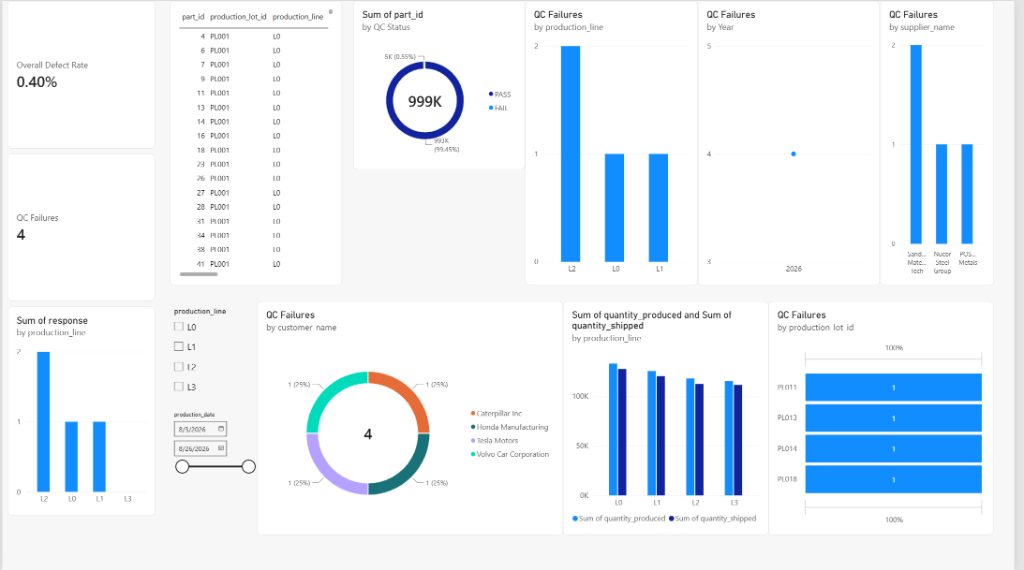

What the dashboard file says about the page in this screenshot:
{"tool":"powerbi","page":{"name":"Plant Quality Overview","canvas":[1920,1080],"ordinal":0},"visuals":[{"type":"cardVisual","fields":{"Data":["public traceability_view.Overall Defect Rate"]},"box":[10,0,280,280],"z":0},{"type":"cardVisual","fields":{"Data":["public traceability_view.QC Failures"]},"box":[10,290,280,280],"z":1000},{"type":"clusteredColumnChart","fields":{"Category":["public traceability_view.production_line"],"Y":["Sum(public traceability_view.response)"]},"box":[10,580,280,396.7],"z":2000},{"type":"tableEx","fields":{"Values":["public traceability_view.part_id","public traceability_view.production_lot_id","public traceability_view.production_line","public traceability_view.raw_material_lot_id","public traceability_view.supplier_name","public traceability_view.material_type","public traceability_view.response","public traceability_view.shipment_id","public traceability_view.customer_name","public traceability_view.quantity_shipped"]},"box":[318.3,0,326.7,540],"z":3000},{"type":"clusteredColumnChart","fields":{"Category":["public traceability_view.production_line"],"Y":["public traceability_view.QC Failures"]},"box":[992,0,327,540],"z":5000},{"type":"lineChart","fields":{"Category":["public traceability_view.inspection_date.Variation.Date Hierarchy.Year","public traceability_view.inspection_date.Variation.Date Hierarchy.Quarter","public traceability_view.inspection_date.Variation.Date Hierarchy.Month","public traceability_view.inspection_date.Variation.Date Hierarchy.Day"],"Y":["public traceability_view.QC Failures"]},"box":[1320,0,345,540],"z":6000},{"type":"slicer","fields":{"Values":["public traceability_view.production_line"]},"box":[318.3,580,280,210],"z":7000},{"type":"donutChart","fields":{"Category":["public traceability_view.customer_name"],"Y":["public traceability_view.QC Failures"]},"box":[483.3,570,580,443.3],"z":8000},{"type":"clusteredColumnChart","fields":{"Category":["public traceability_view.production_line"],"Y":["Sum(public traceability_view.quantity_produced)","Sum(public traceability_view.quantity_shipped)"]},"box":[1063.3,570,390,443.3],"z":9000},{"type":"funnel","fields":{"Category":["public traceability_view.production_lot_id"],"Y":["public traceability_view.QC Failures"]},"box":[1453.3,570,426.7,443.3],"z":10000},{"type":"slicer","fields":{"Values":["public traceability_view.production_date"]},"box":[303.3,721.1,165.6,122.2],"z":11000},{"type":"clusteredColumnChart","fields":{"Category":["public traceability_view.supplier_name"],"Y":["public traceability_view.QC Failures"]},"box":[1665,0,215,540],"z":11001},{"type":"donutChart","fields":{"Category":["public traceability_view.QC Status"],"Y":["Sum(public traceability_view.part_id)"]},"box":[666,0,326,320],"z":11002}]}

Visuals, with their boxes in screenshot pixels (x1, y1, x2, y2), scaled from the page's 1920x1080 canvas onto the 1024x570 screenshot:
cardVisual - public traceability_view.Overall Defect Rate: x1=5, y1=0, x2=155, y2=148
cardVisual - public traceability_view.QC Failures: x1=5, y1=153, x2=155, y2=301
clusteredColumnChart - public traceability_view.production_line x Sum(public traceability_view.response): x1=5, y1=306, x2=155, y2=515
tableEx - public traceability_view.part_id x public traceability_view.production_lot_id: x1=170, y1=0, x2=344, y2=285
clusteredColumnChart - public traceability_view.production_line x public traceability_view.QC Failures: x1=529, y1=0, x2=703, y2=285
lineChart - public traceability_view.inspection_date.Variation.Date Hierarchy.Year x public traceability_view.inspection_date.Variation.Date Hierarchy.Quarter: x1=704, y1=0, x2=888, y2=285
slicer - public traceability_view.production_line: x1=170, y1=306, x2=319, y2=417
donutChart - public traceability_view.customer_name x public traceability_view.QC Failures: x1=258, y1=301, x2=567, y2=535
clusteredColumnChart - public traceability_view.production_line x Sum(public traceability_view.quantity_produced): x1=567, y1=301, x2=775, y2=535
funnel - public traceability_view.production_lot_id x public traceability_view.QC Failures: x1=775, y1=301, x2=1003, y2=535
slicer - public traceability_view.production_date: x1=162, y1=381, x2=250, y2=445
clusteredColumnChart - public traceability_view.supplier_name x public traceability_view.QC Failures: x1=888, y1=0, x2=1003, y2=285
donutChart - public traceability_view.QC Status x Sum(public traceability_view.part_id): x1=355, y1=0, x2=529, y2=169
